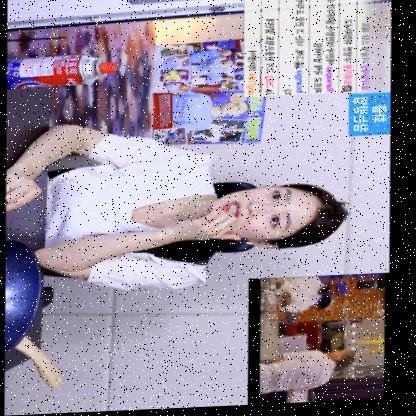donation: (231, 274, 390, 408)
streamer: (5, 115, 348, 297)
